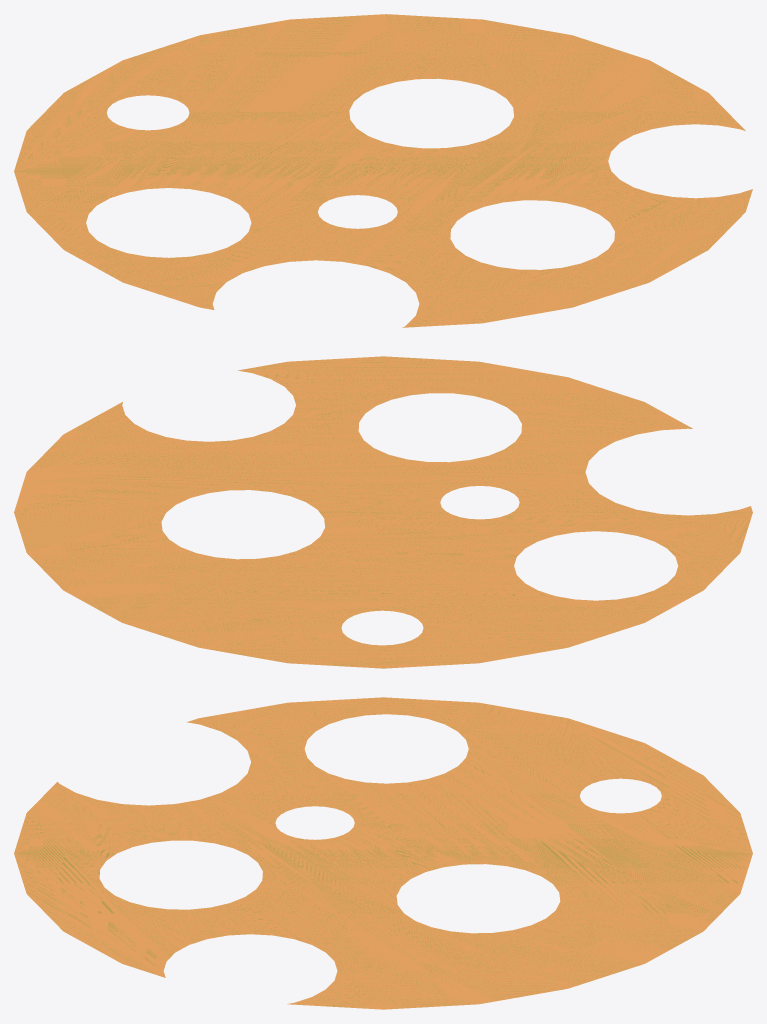
The model's file is original-93.obj.
3 views of the same model, one above another, from view 1: azimuth 30°, elevation 25°; view 2: azimuth 150°, elevation 25°; view 3: azimuth 270°, elevation 25° (orthographic).
Parts seen in each view (by area): view 1: #ID527; view 2: #ID527; view 3: #ID527.
Boxes of the visible parts, box(x1,y1,x2,y2) form: #ID527: box(14, 14, 752, 327); #ID527: box(14, 356, 752, 668); #ID527: box(14, 697, 752, 1009).
Size of the model in its own units: 0.1642 by 0 by 0.1642.
